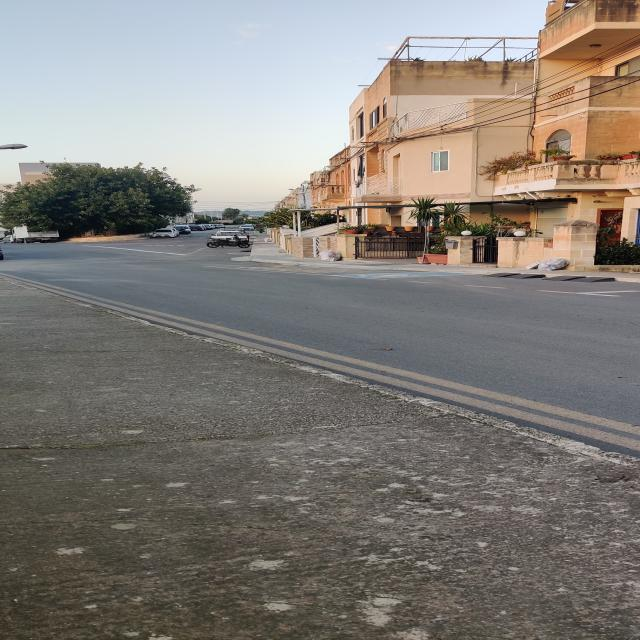Recyclable Material -Grey Bags-: (522, 258, 571, 271), (319, 249, 344, 262), (261, 237, 275, 242)
